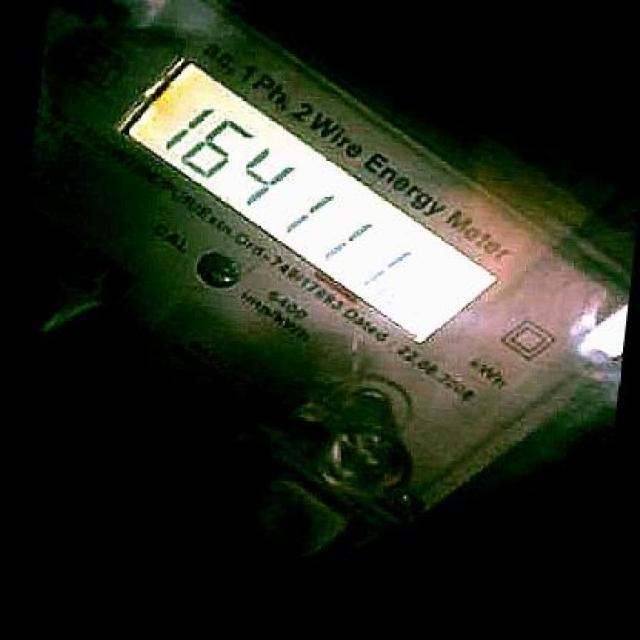display: (125, 62, 497, 346)
frame: (163, 99, 422, 296), (291, 98, 314, 125), (237, 61, 260, 86)
gauge: (0, 0, 640, 562)
